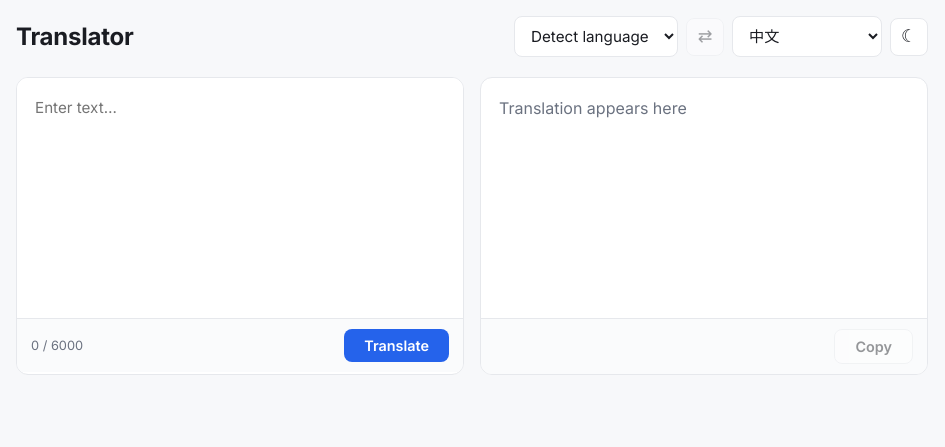
Test: Translator › surfaces a backend error message
In the text box with placeholder "Enter text…": (240, 198) [17,78,463,318], type "Hello"
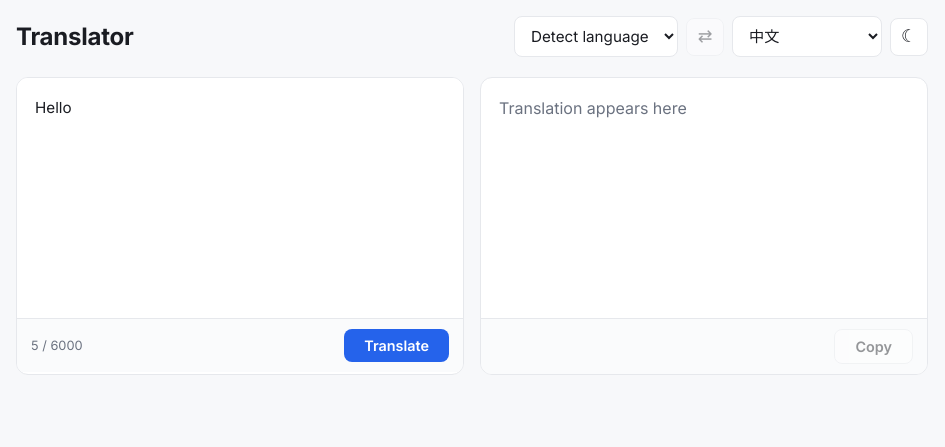
Click the button "Translate": (397, 346) [344,329,449,362]
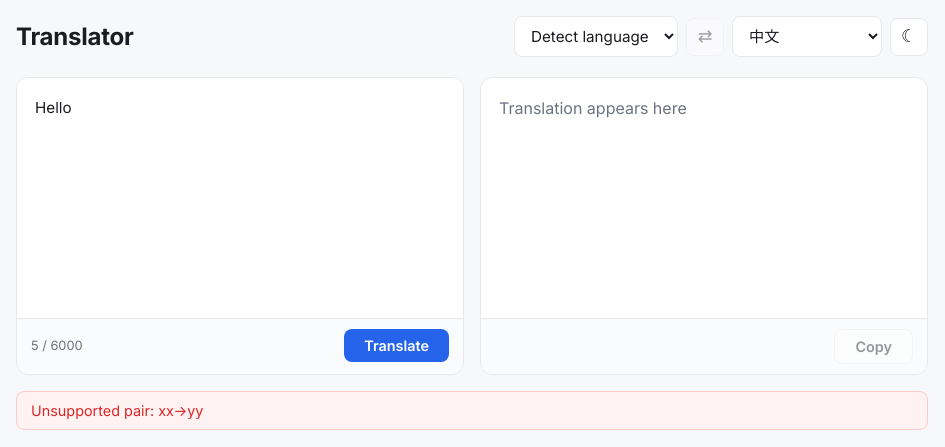
Now the text "Unsupported pair: xx->yy" is shown, box [16,391,928,430]
